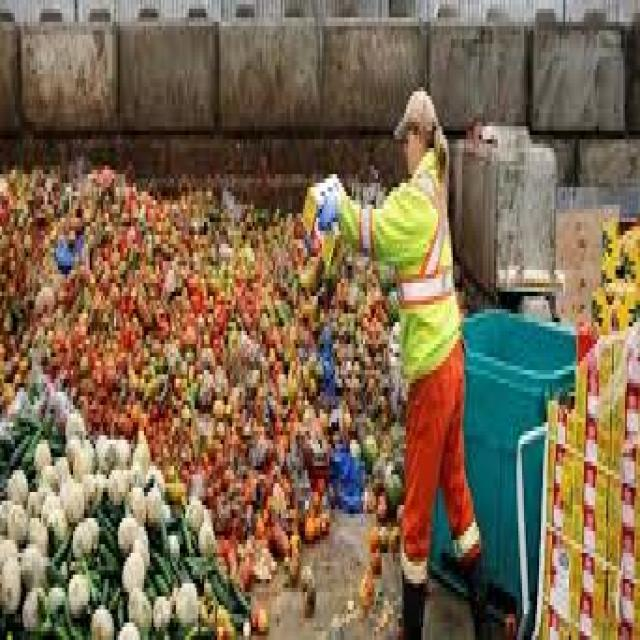food_waste: (14, 184, 310, 602), (11, 402, 226, 611)
